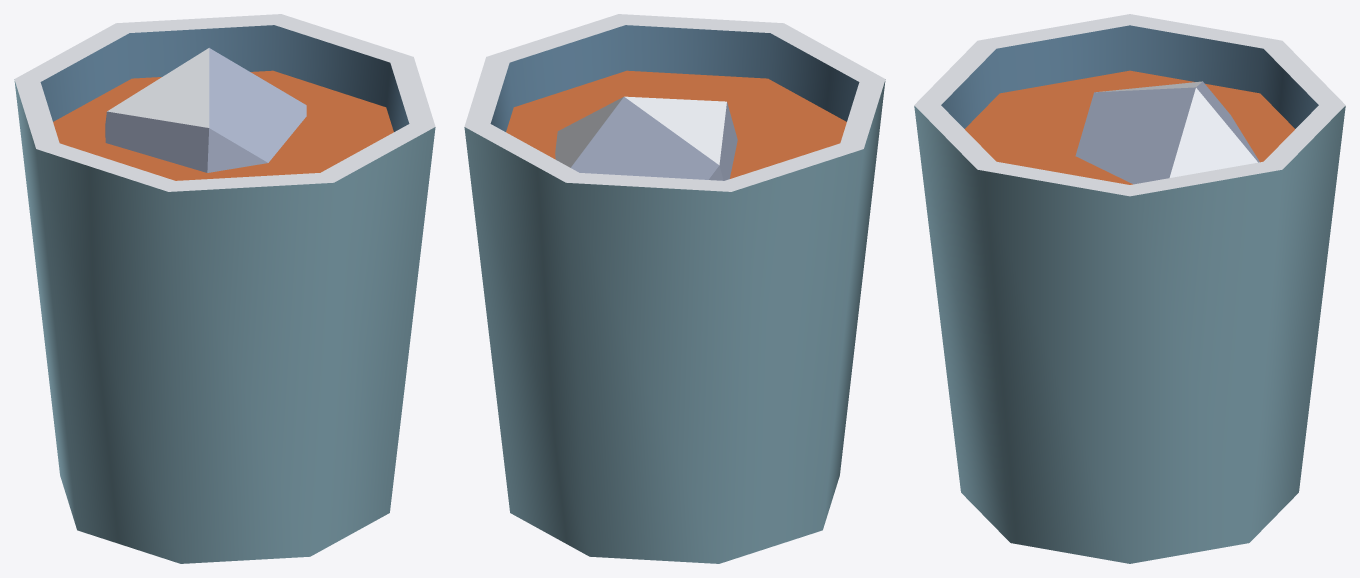
Rendered from drink.glb.
3 renders of one model, left to right at view 1: azimuth 30°, elevation 25°; view 2: azimuth 150°, elevation 25°; view 3: azimuth 270°, elevation 25°, orthographic.
Visible parts, largest first — view 1: character_oldadult_male_drink; view 2: character_oldadult_male_drink; view 3: character_oldadult_male_drink.
Boxes of the visible parts, x1,y1,x2,y2 form: character_oldadult_male_drink: (14, 14, 435, 563); character_oldadult_male_drink: (464, 14, 885, 563); character_oldadult_male_drink: (914, 14, 1345, 563).
Size of the model in its own units: 0.0843 by 0.0892 by 0.0843.
1 material, 1 textured.
